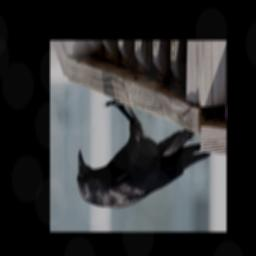Crow: (76, 99, 212, 209)
